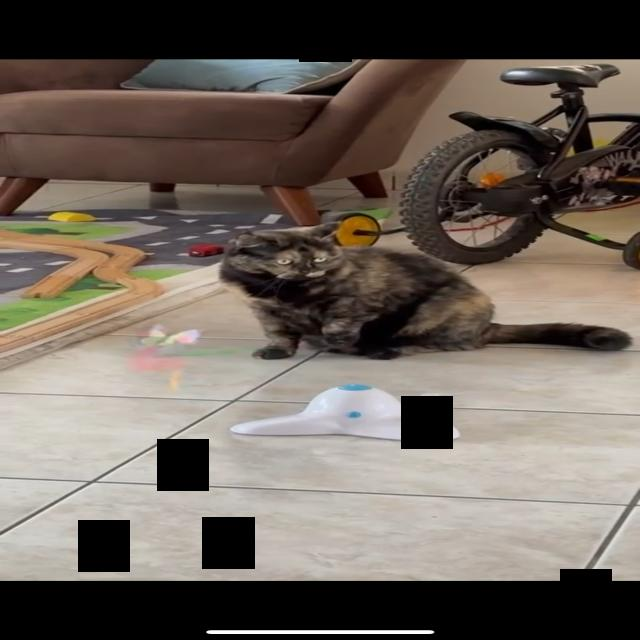authorized: (217, 210, 632, 361)
